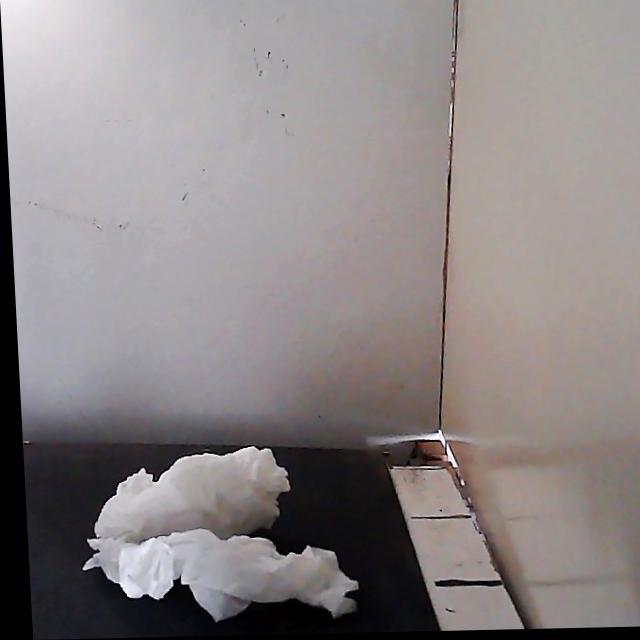papel: (83, 446, 357, 620)
